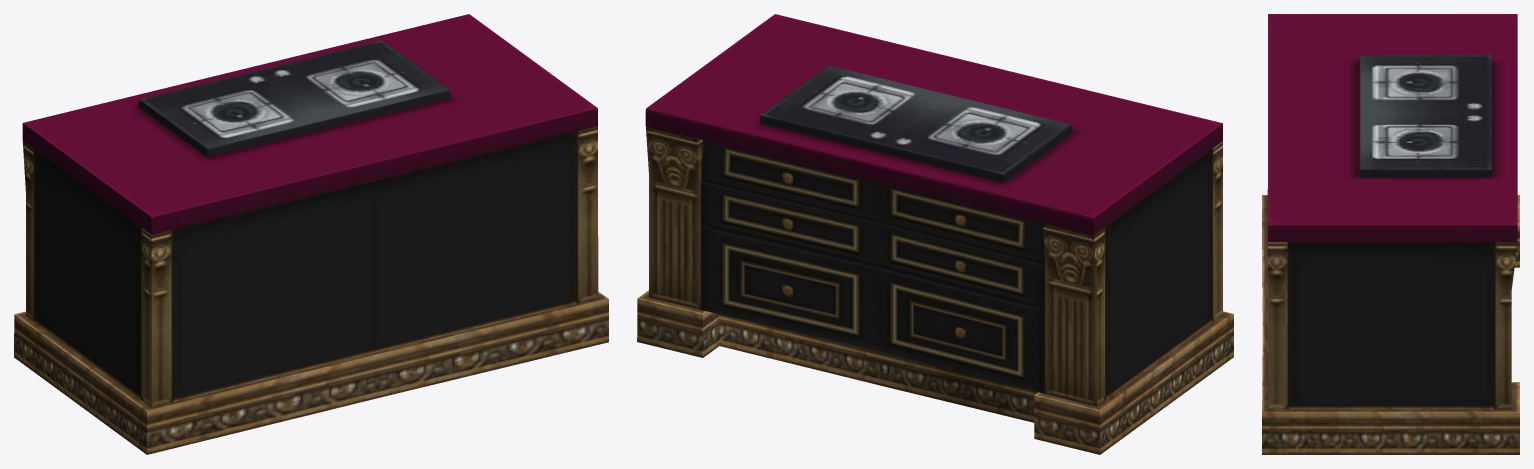
The model's file is furni_0200319_01.FBX.
The picture shows the model from 3 angles, left to right: view 1: azimuth 30°, elevation 25°; view 2: azimuth 150°, elevation 25°; view 3: azimuth 270°, elevation 25°; orthographic projection. The views are drawn at different scales.
Parts seen in each view (by area): view 1: furni_0200319_01; view 2: furni_0200319_01; view 3: furni_0200319_01.
Boxes of the visible parts, x1,y1,x2,y2 form: furni_0200319_01: (14,14,608,454); furni_0200319_01: (637,14,1233,454); furni_0200319_01: (1262,14,1519,454).
Bounding box in the file's own units: 165 × 82.8 × 82.62.
